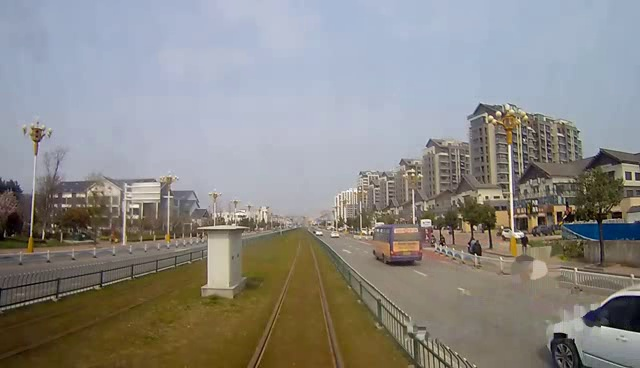bus: (370, 222, 423, 267)
car: (546, 285, 640, 368)
